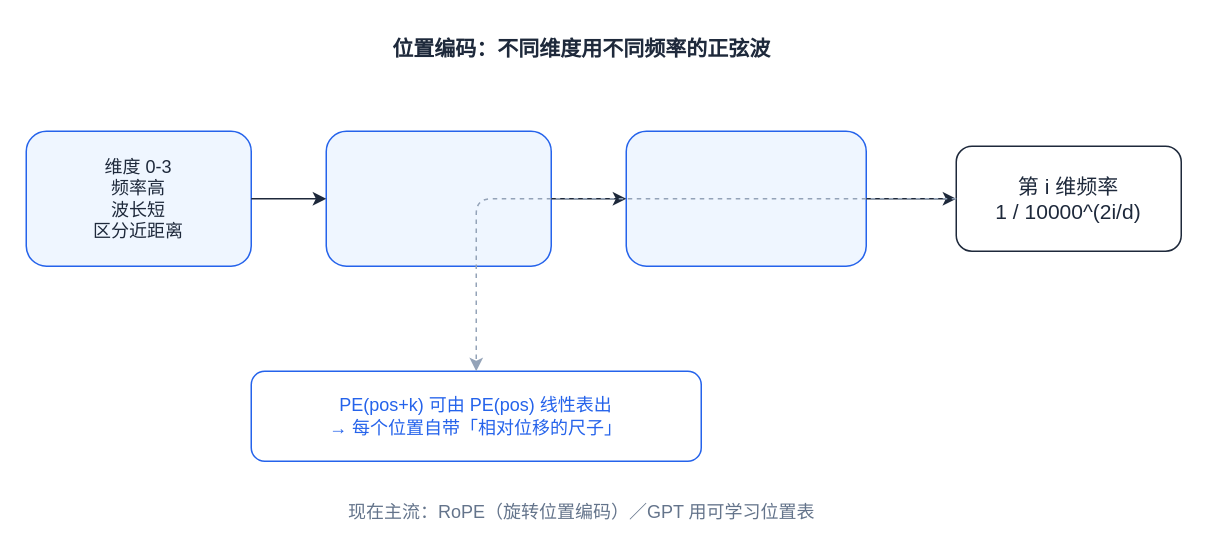
This 1208x555 diagram has some shape labels left out. The shapes that lost their labels are listed below. From the top down, each one's centre as x and y in pixels, then its label:
pixel 438 198: 维度中段 频率中等 中程位置
pixel 745 198: 维度 d-4 ~ d 频率低 波长达上万 token 管远距离
